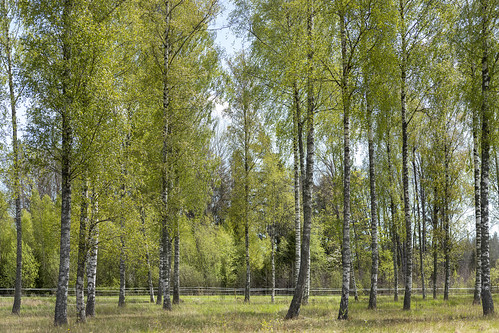vegetation: (18, 1, 499, 296)
